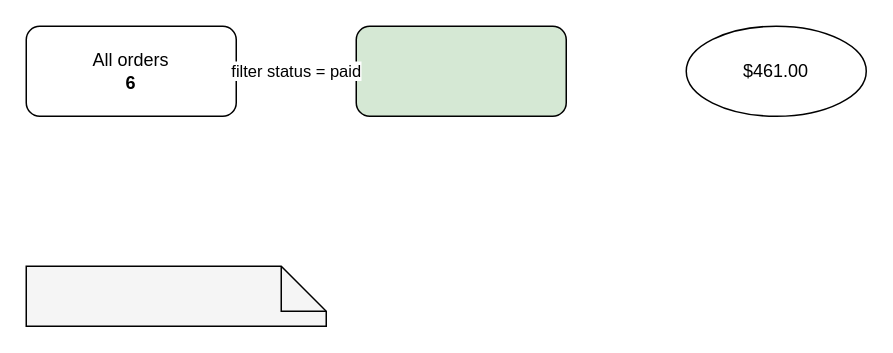
Some shapes in this 893 by 353 pixel diagram are drawn without their labels. The centre of each missing label's shape, as x and y in pixels:
Evidence: load orders: [175,295]
Paid 4: [460,70]
